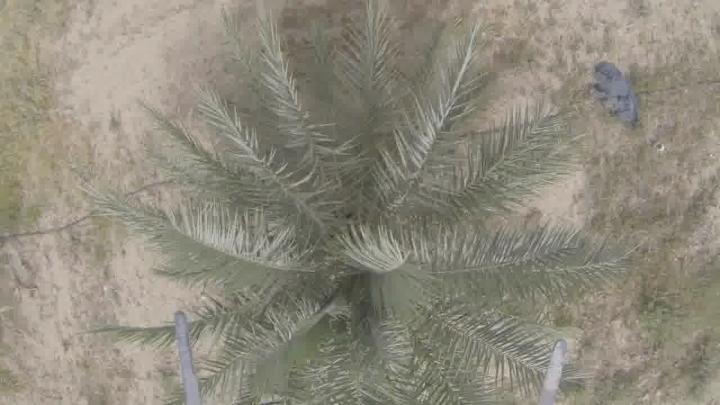Date-Palm-Crown: (219, 112, 538, 404)
